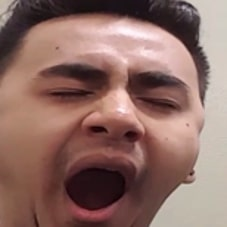drowsy: (34, 55, 193, 227)
